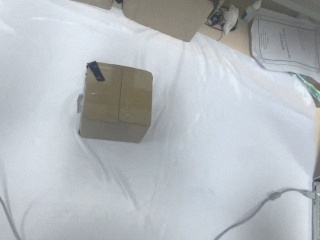box: (80, 60, 154, 144), (121, 1, 218, 43)
